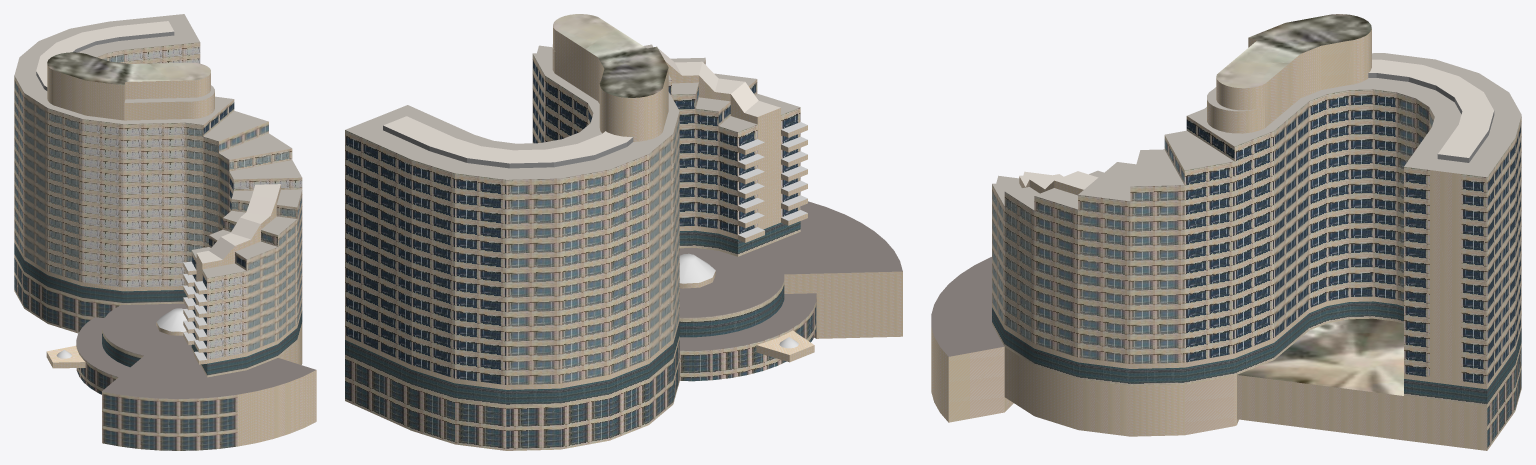
File: Conrad.fbx
3 renders of one model, left to right at view 1: azimuth 30°, elevation 25°; view 2: azimuth 150°, elevation 25°; view 3: azimuth 270°, elevation 25°, orthographic. The views are drawn at different scales.
Visible parts, largest first — view 1: Model, Group1; view 2: Model, Group1; view 3: Model, Group1.
Boxes of the visible parts, left/top/right/bottom form: Model: left=14, top=14, right=316, bottom=450; Group1: left=47, top=52, right=214, bottom=120; Model: left=345, top=44, right=902, bottom=450; Group1: left=552, top=14, right=668, bottom=141; Model: left=931, top=53, right=1521, bottom=450; Group1: left=1207, top=14, right=1371, bottom=133.
Size of the model in its own units: 70.88 by 68.85 by 109.
